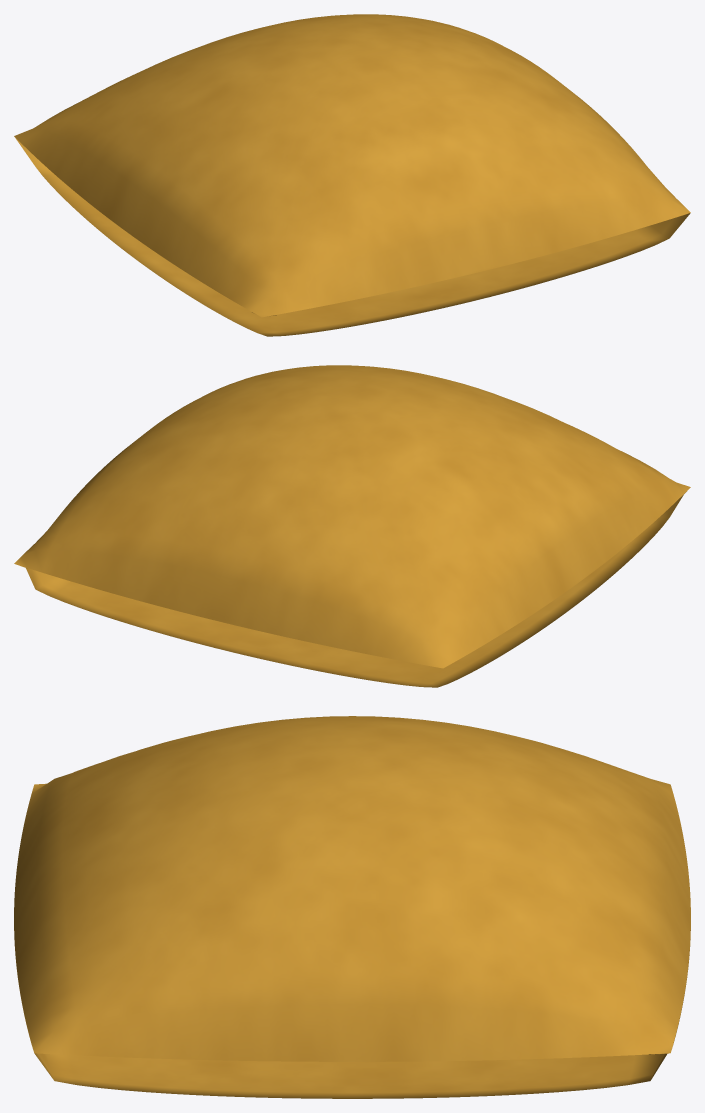
3 renders of one model, top to bottom at view 1: azimuth 30°, elevation 25°; view 2: azimuth 150°, elevation 25°; view 3: azimuth 270°, elevation 25°, orthographic. The views are drawn at different scales.
Parts seen in each view (by area): view 1: Scatter cushion; view 2: Scatter cushion; view 3: Scatter cushion.
Part boxes in pixels (box(x1,y1,x2,y2)): Scatter cushion: box(14, 14, 690, 336); Scatter cushion: box(14, 365, 690, 687); Scatter cushion: box(14, 716, 690, 1098).
Bounding box in the file's own units: 0.45 × 0.16 × 0.45.
Materials: 1 (1 with a texture image).
